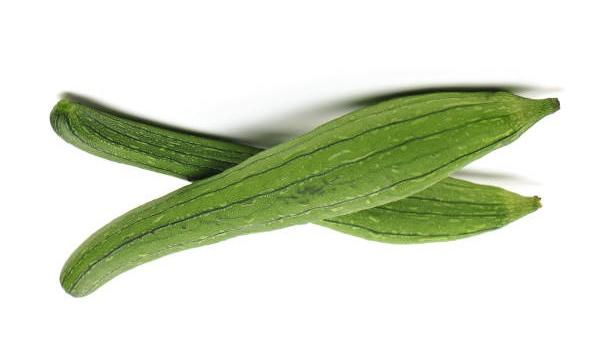peas: (57, 87, 559, 297)
